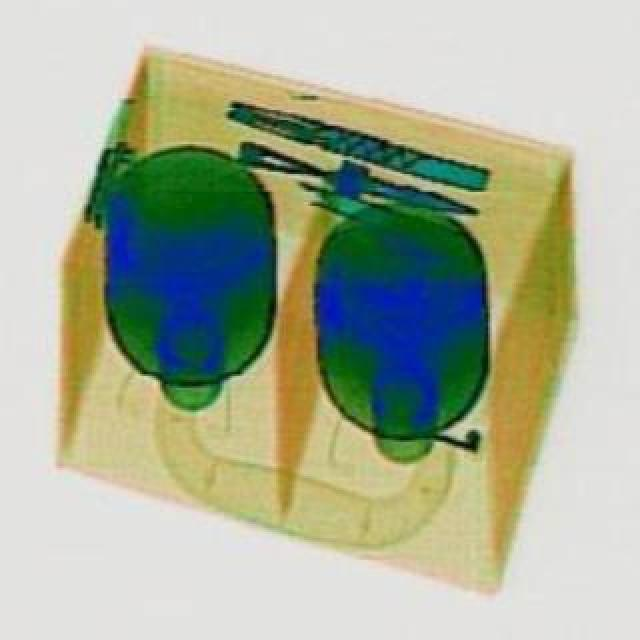knife: (228, 136, 476, 236)
